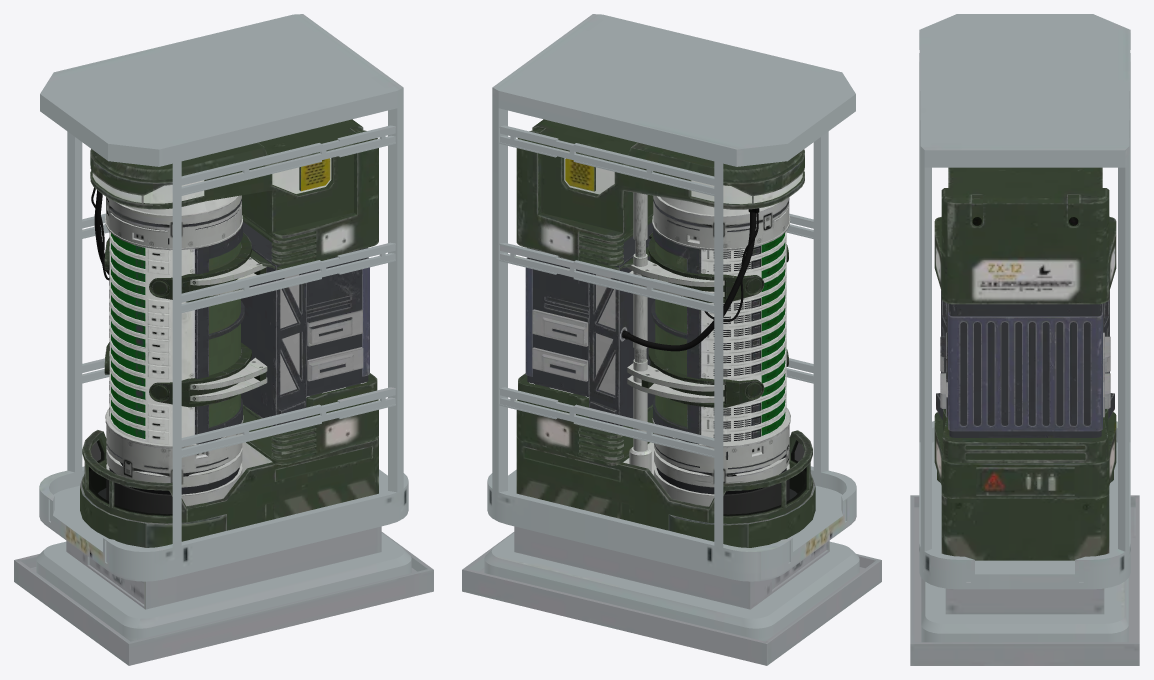
Rendered from server-rack.glb.
3 renders of one model, left to right at view 1: azimuth 30°, elevation 25°; view 2: azimuth 150°, elevation 25°; view 3: azimuth 270°, elevation 25°, orthographic.
Visible parts, largest first — view 1: defaultMaterial (×7); view 2: defaultMaterial (×7); view 3: defaultMaterial (×3).
Boxes of the visible parts, x1=… form: defaultMaterial (×7): x1=14, y1=14, x2=433, y2=665; defaultMaterial (×7): x1=462, y1=14, x2=881, y2=665; defaultMaterial (×3): x1=910, y1=14, x2=1139, y2=665.
Bounding box in the file's own units: 1.27 × 2 × 0.8248.
Materials: 7 (6 with a texture image).
